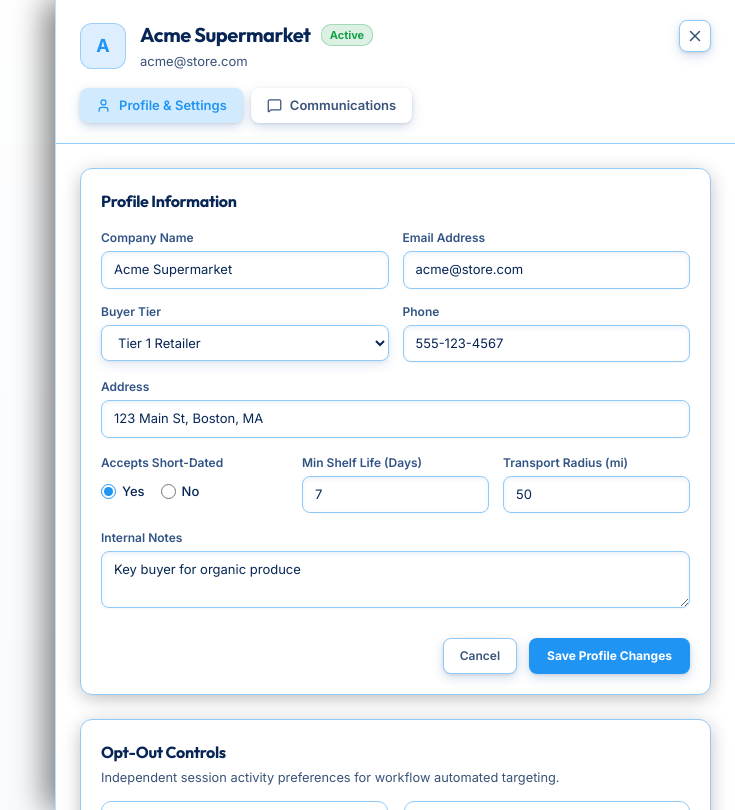
Scenario: 02 — Buyer Detail Drawer Component › Slice 5: Communications Tab › fetches email threads by buyer email, truncates snippet, and shows unread indicator
Click the button "Communications" at (332, 105), box [251,88,412,123]
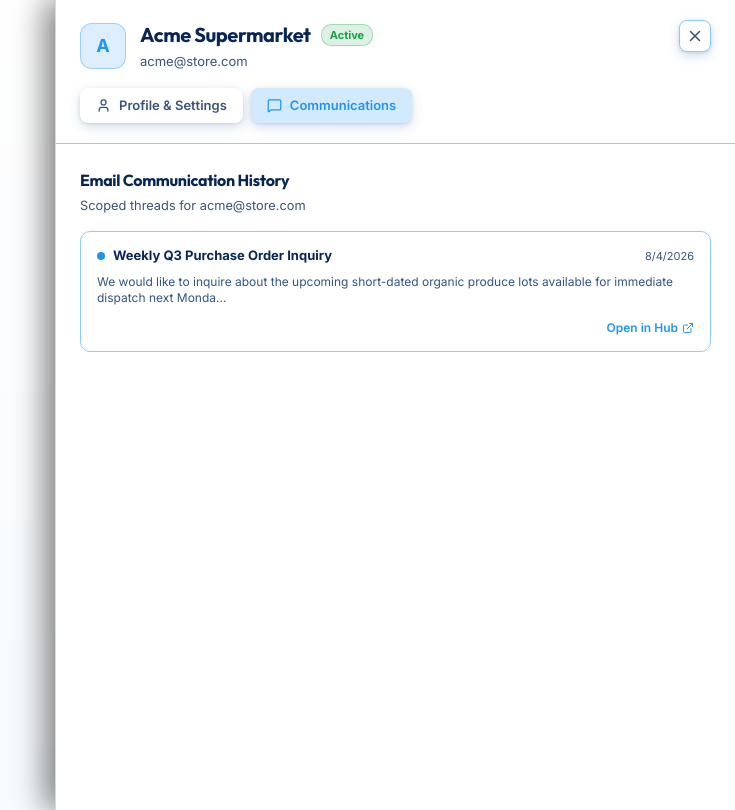
expect the text "Weekly Q3 Purchase Order Inquiry" is shown: met, box [113,246,332,266]
expect the element with test id "unread-indicator" is shown: met, box [97,252,105,260]
expect the link with test id "open-in-hub-t1" is shown: met, box [606,319,694,337]
